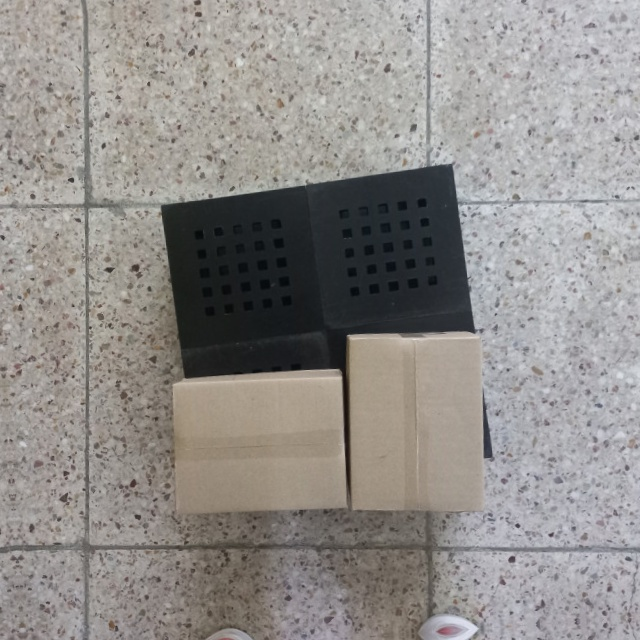box: (168, 364, 352, 520), (344, 328, 489, 518)
